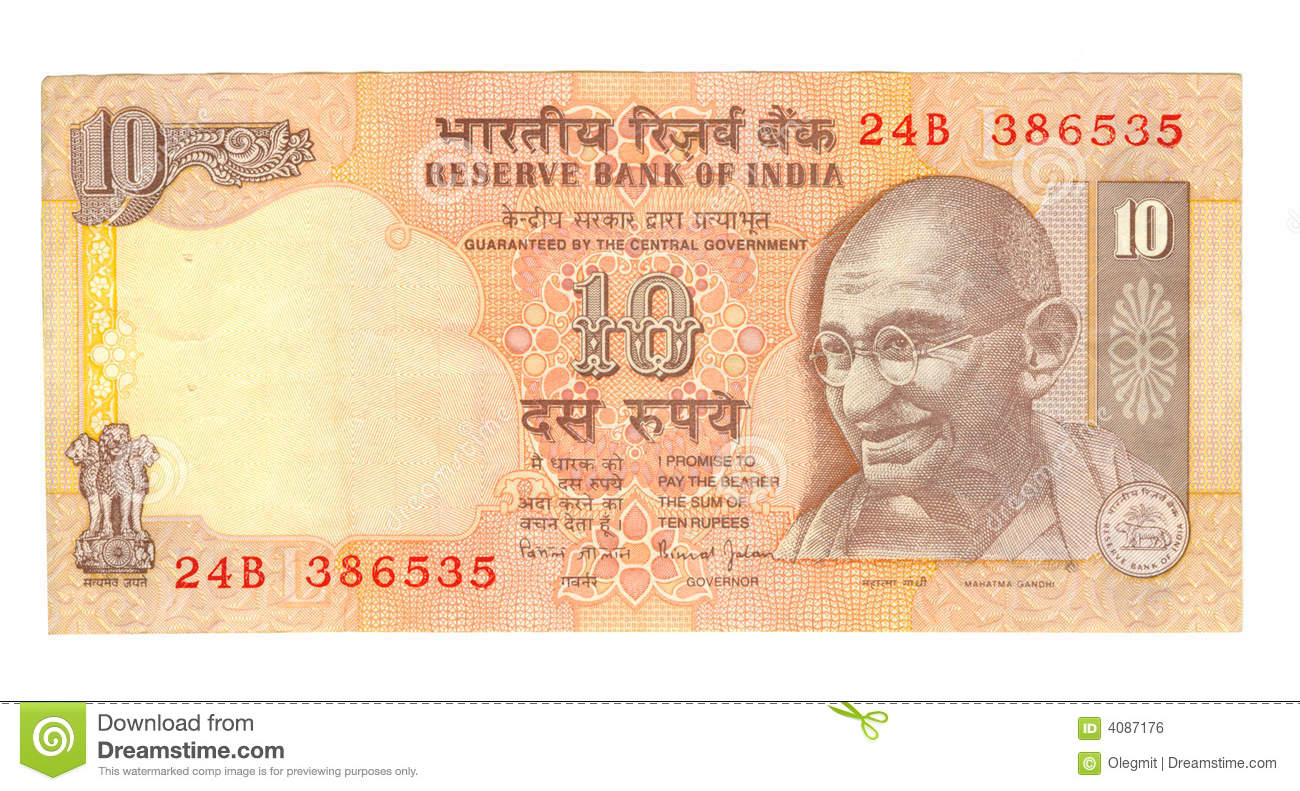ten_rupees_note: (38, 73, 1250, 637)
